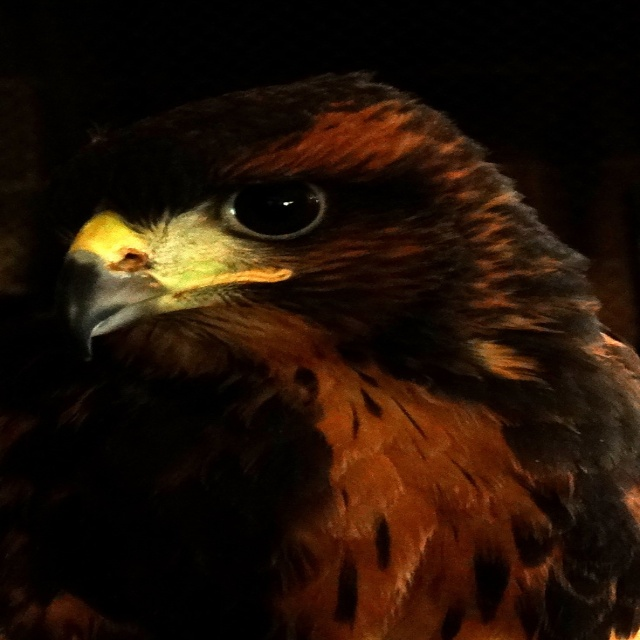Eagle: (12, 65, 638, 640)
